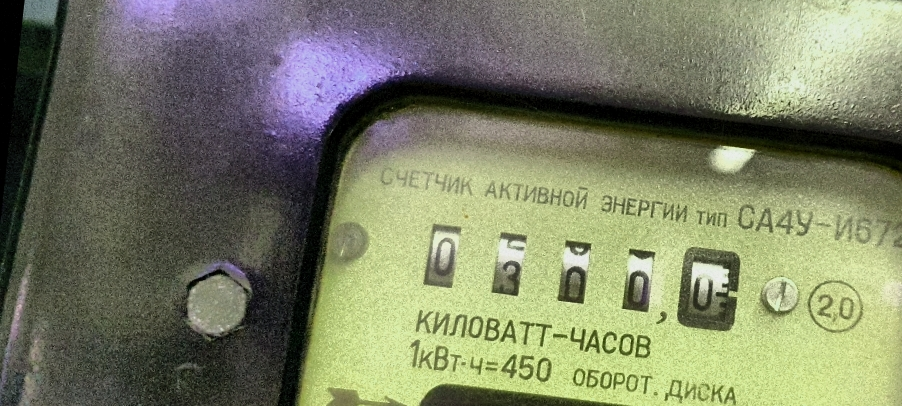0: (622, 265, 652, 312), (430, 231, 458, 280), (687, 269, 716, 314), (559, 261, 587, 304)
3: (495, 255, 522, 296)
screen: (399, 198, 763, 350)
